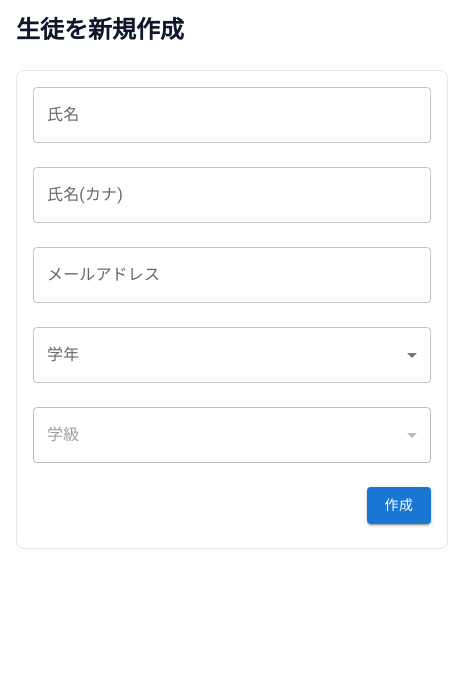
CreateStudent Presenter › 氏名(カナ)が未入力のときはエラーが表示される
Click the button "作成" at (399, 505), box x1=367 y1=487 x2=431 y2=524
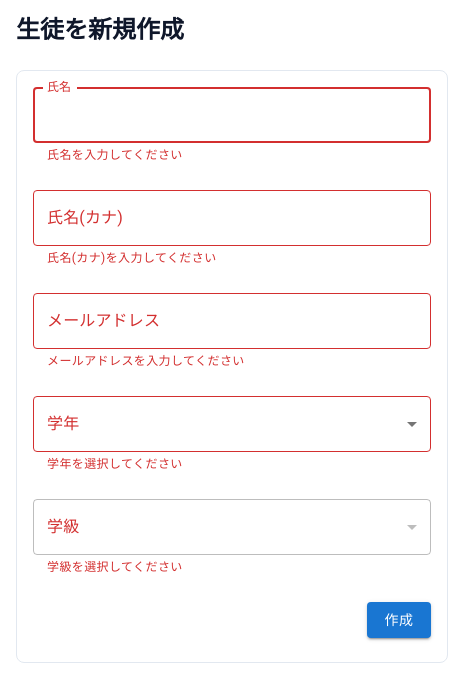
Expected: the text "氏名(カナ)を入力してください" is shown, x1=47 y1=251 x2=217 y2=265
